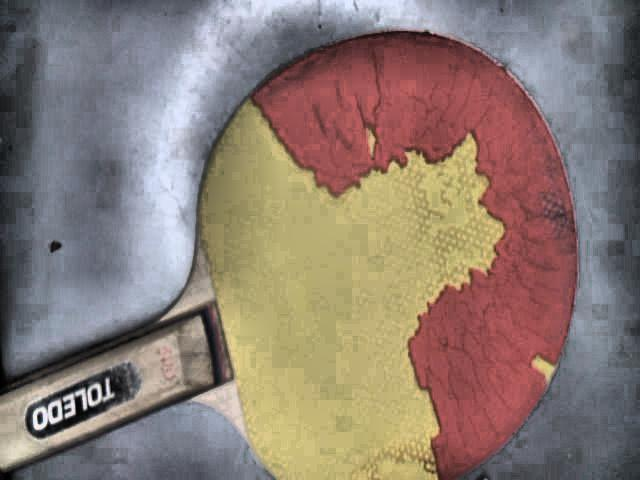Almennt: (0, 27, 579, 480)
